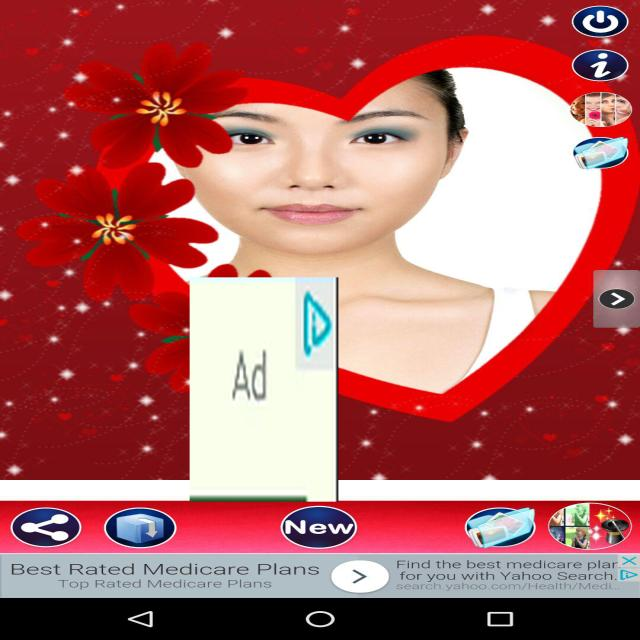sneaking: (190, 277, 338, 502)
